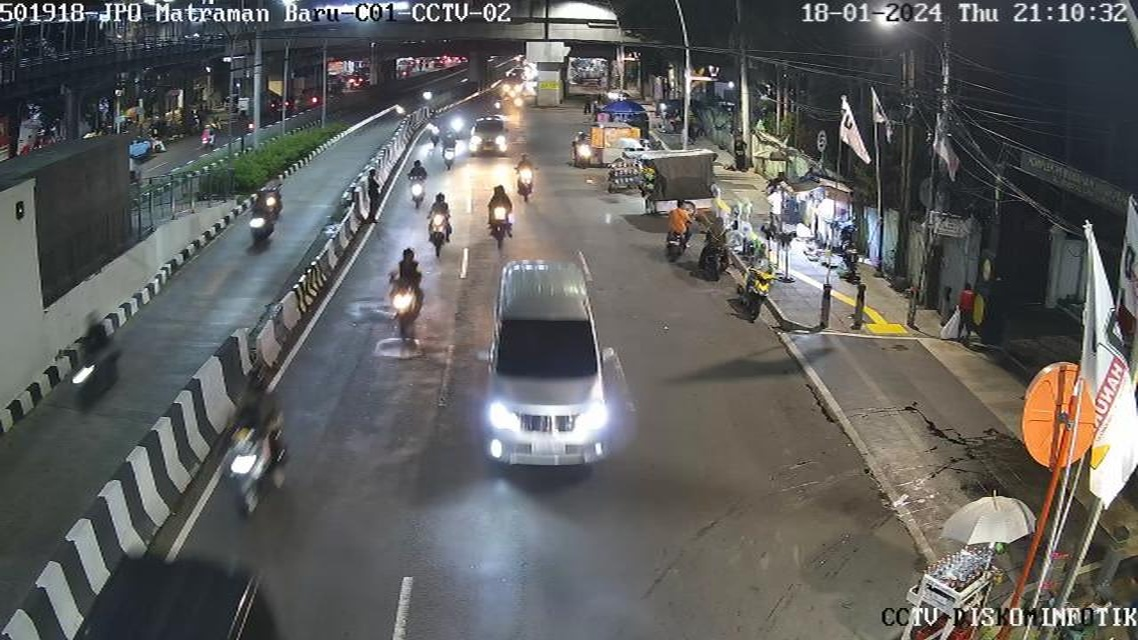Gerobak: (910, 544, 1003, 623)
